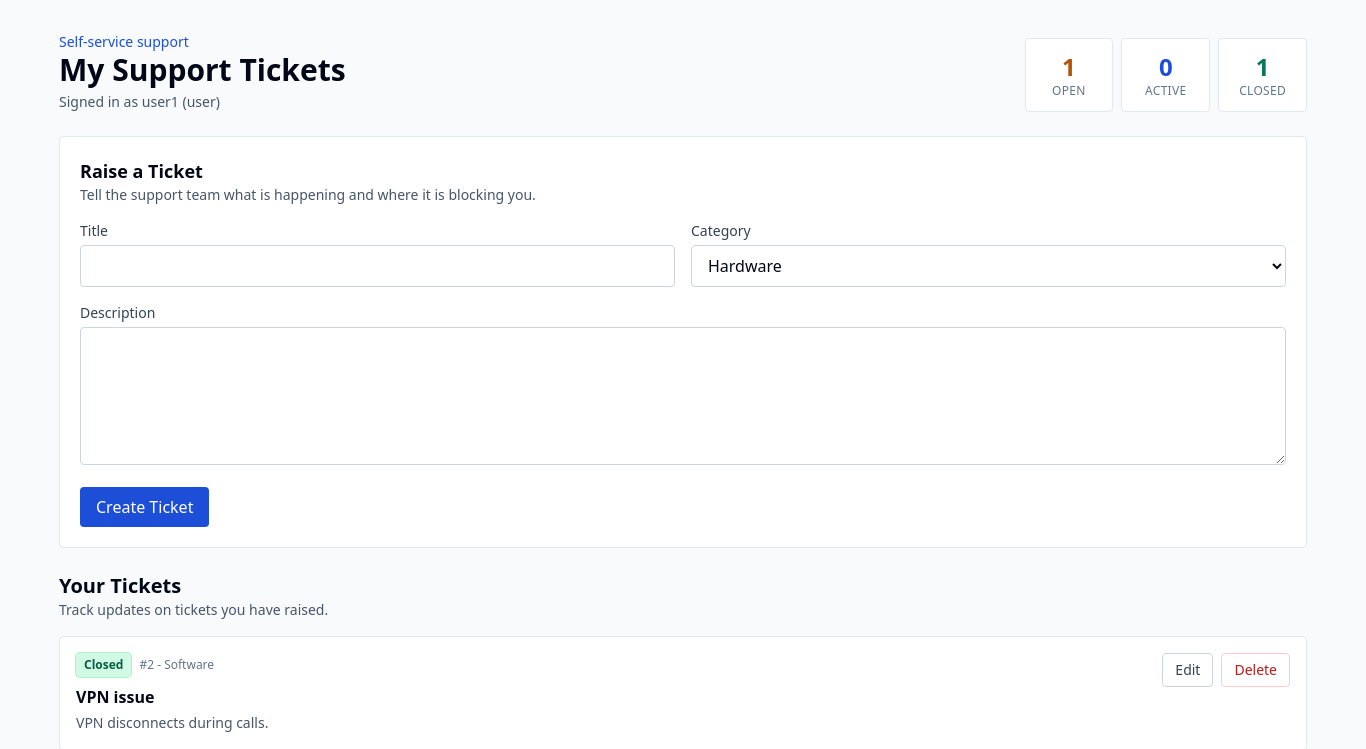
Test: creates a ticket using the selected category
This screenshot has width=1366, height=749.
Type "New monitor request" into the field with test id "ticket-title". click: (378,266)
box: [80,245,675,287]
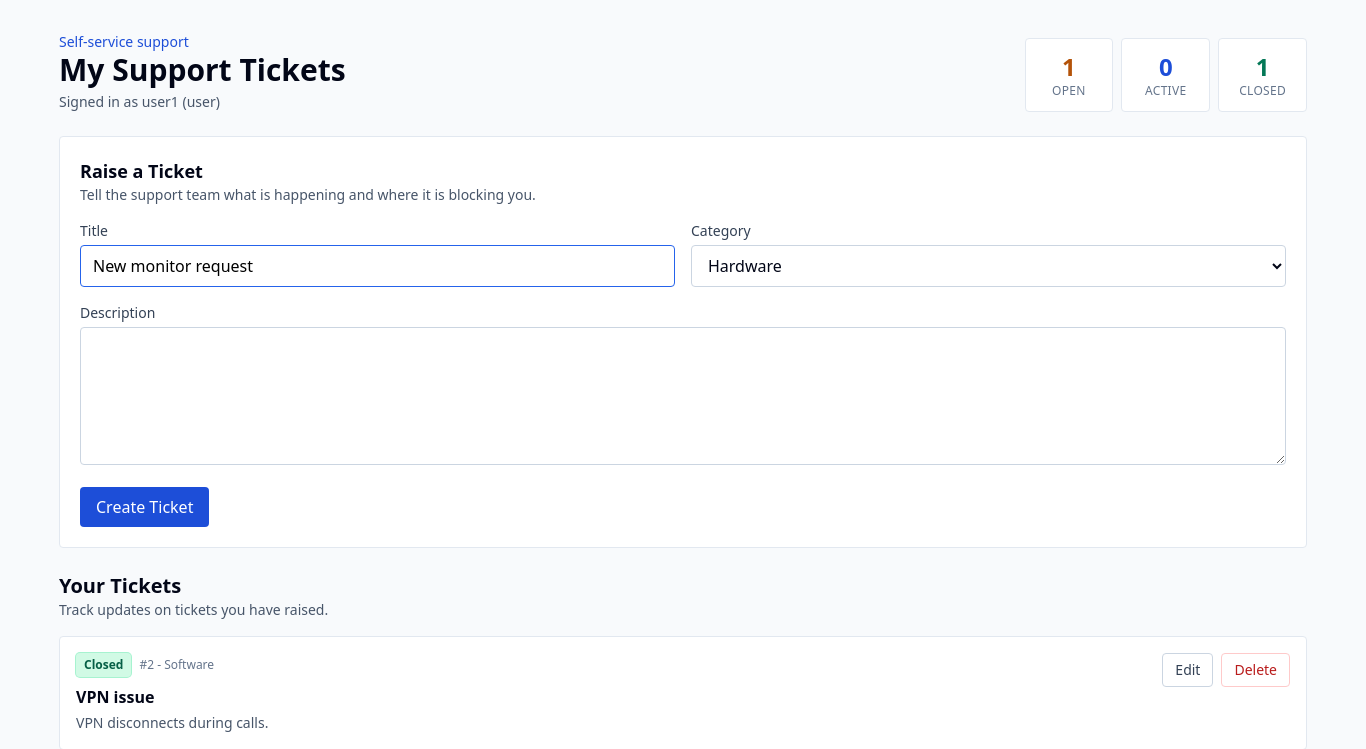
Select "Software" in the dropdown with test id "ticket-category". click: (988,266)
box: [691,245,1286,287]
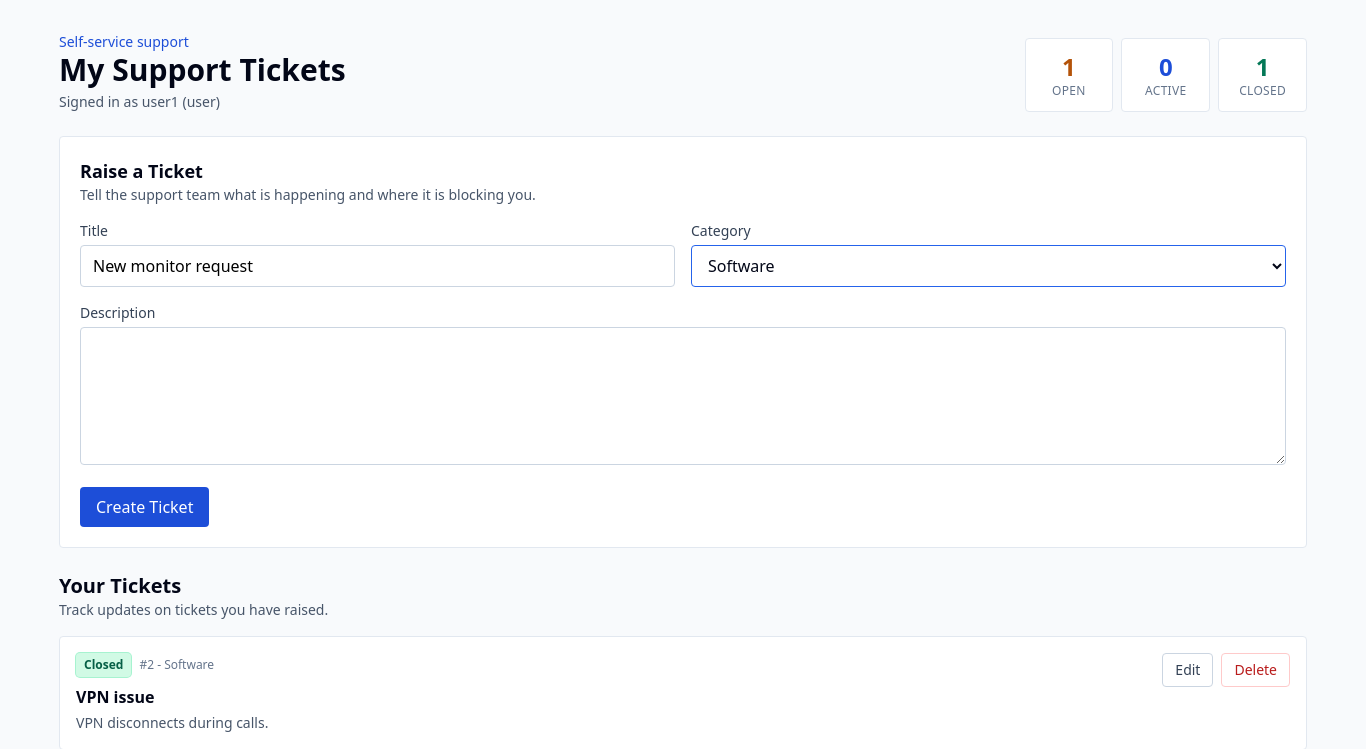
Type "The monitor flickers and needs support." into the text box with test id "ticket-description". click: (683,396)
box: [80,327,1286,465]
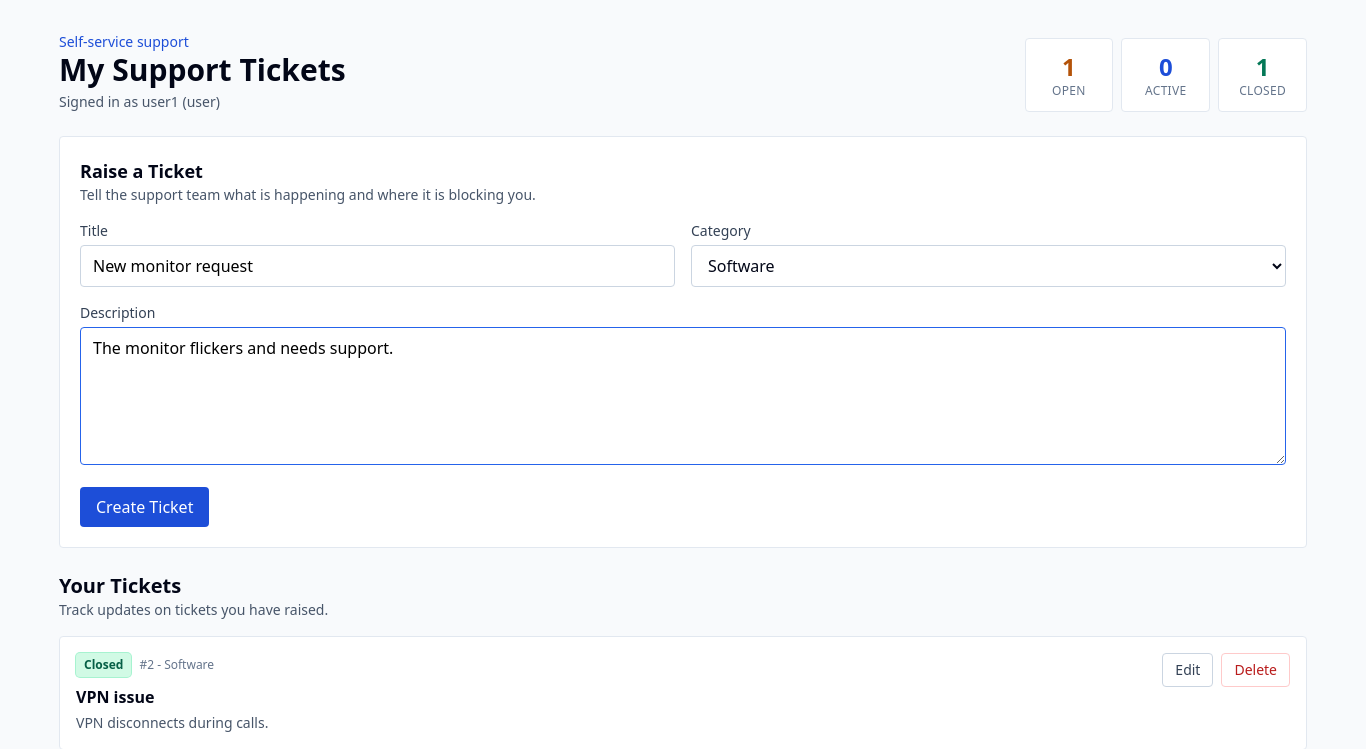
Click the button "Create Ticket". click: (145,507)
box: [80,487,209,527]
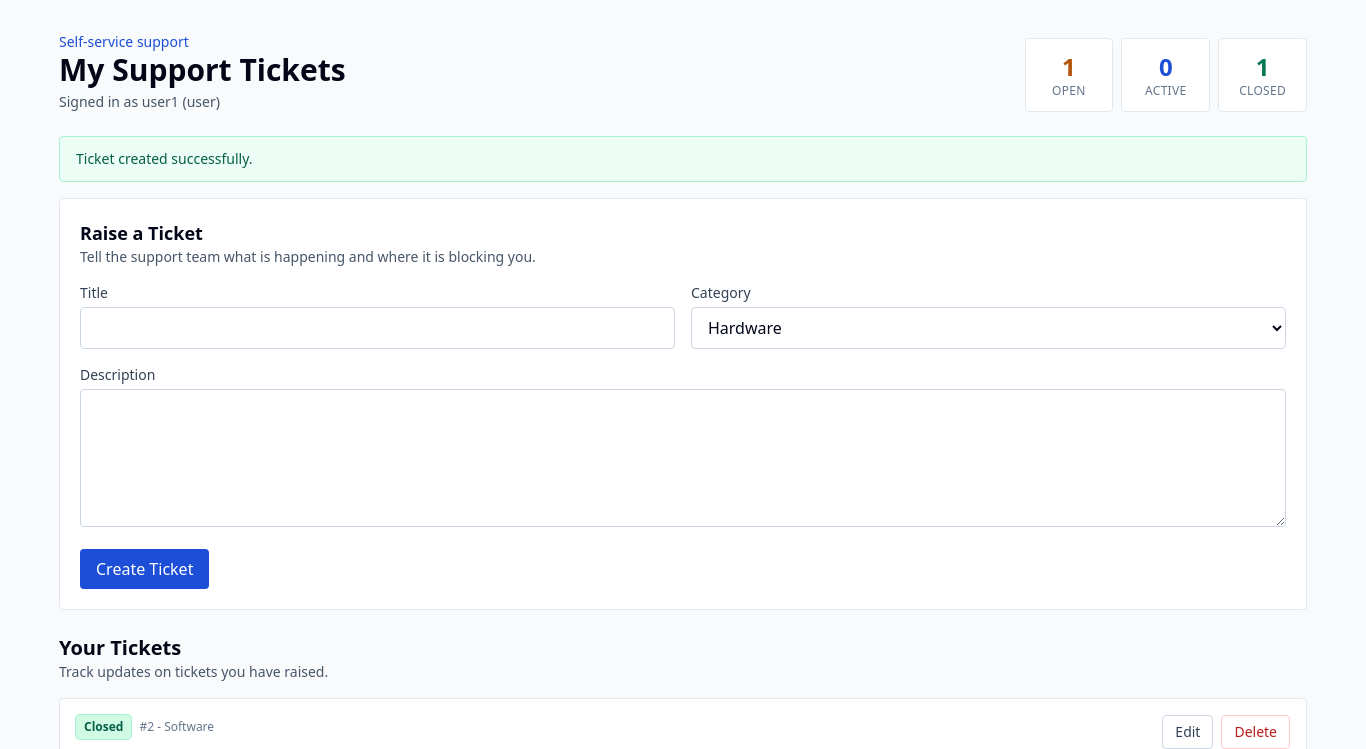
Result: the text "Ticket created successfully." is shown at [59,136,1307,182]
